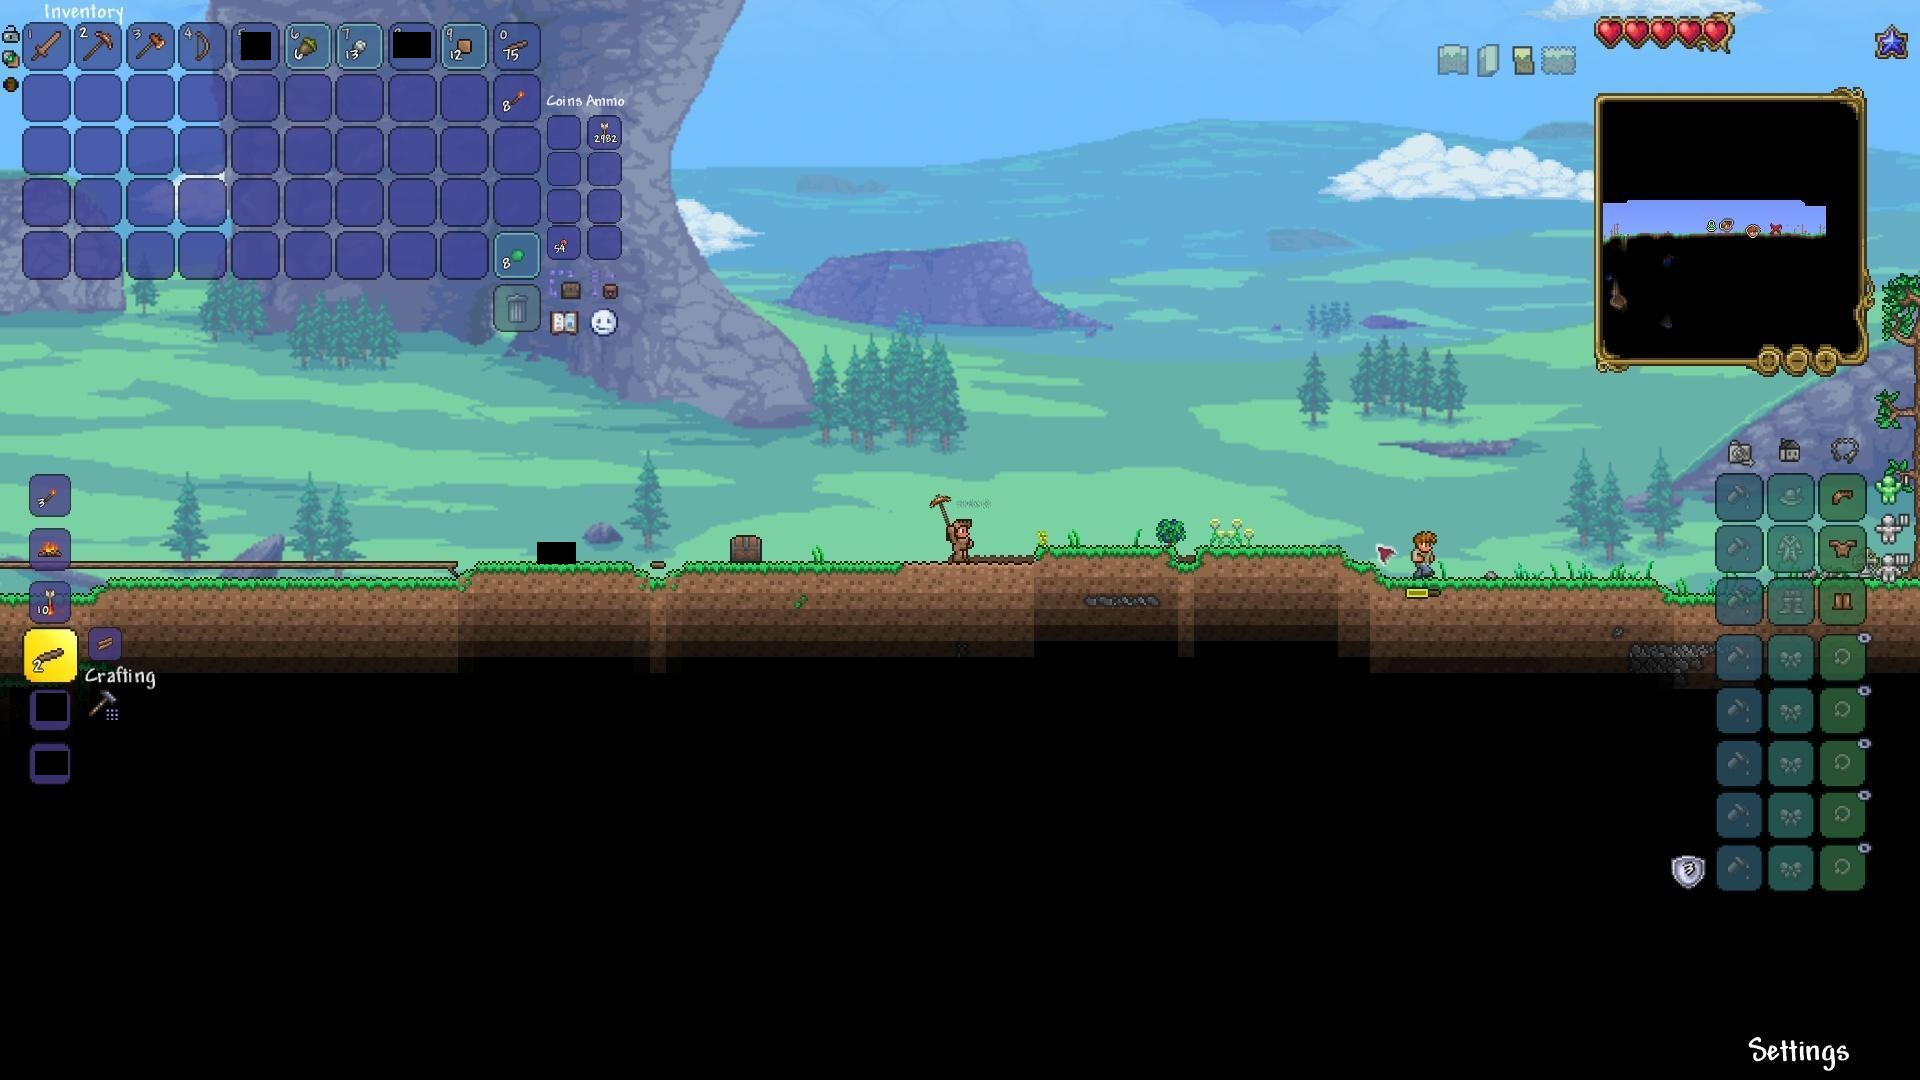breastplate: (1829, 539, 1858, 559)
helmet: (1826, 483, 1859, 512)
legs: (1832, 588, 1855, 617)
wood: (88, 628, 120, 658)
